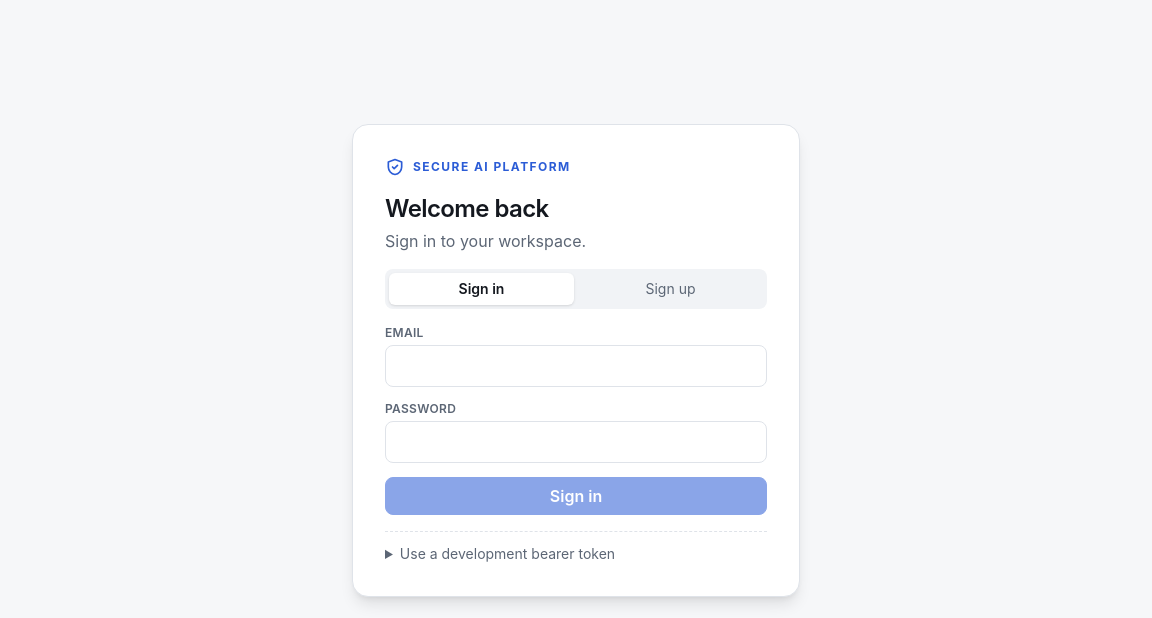
Test: Accounts › creates an account and uses the session cookie, not a stored token
The width and height of the screenshot is (1152, 618).
Click the tab "Sign up". click: (670, 288)
box: top-left (578, 272), bottom-right (763, 304)
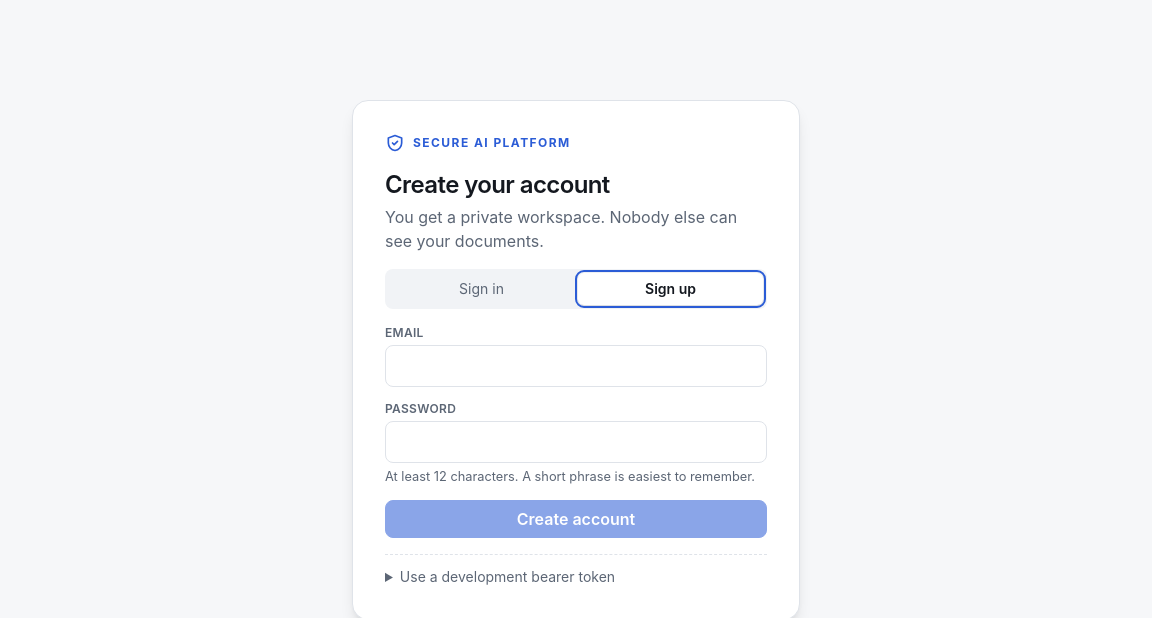
Type "ada@example.com" into the field labelled "Email". click: (576, 366)
box: top-left (385, 345), bottom-right (767, 387)
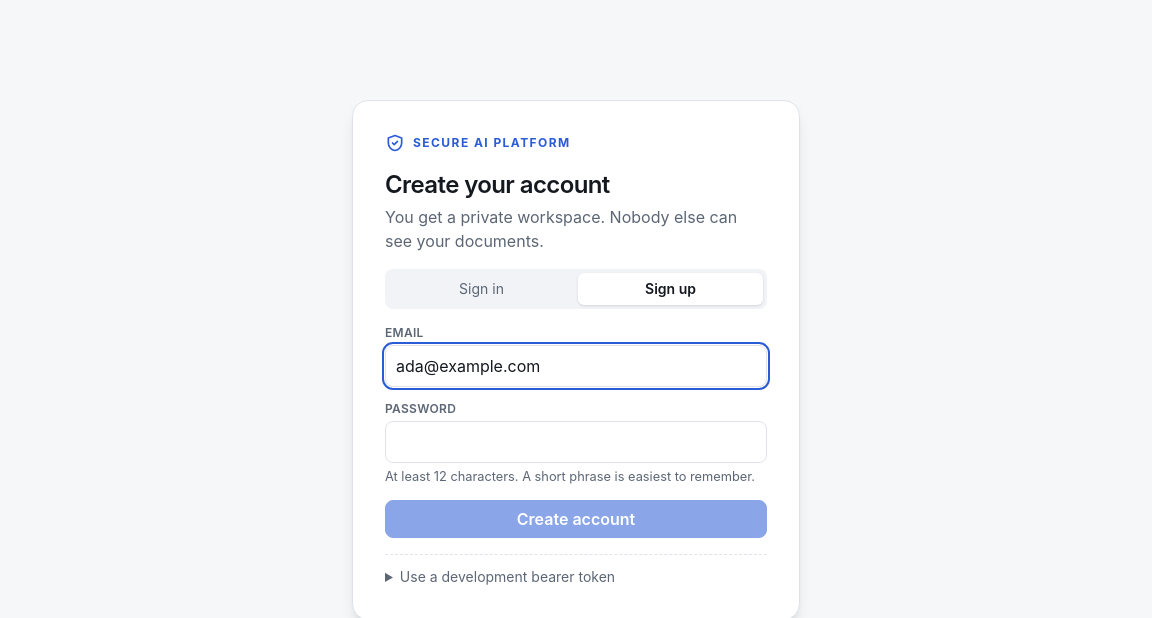
Type "correct horse battery" into the password field labelled "Password". click: (576, 442)
box: top-left (385, 421), bottom-right (767, 463)
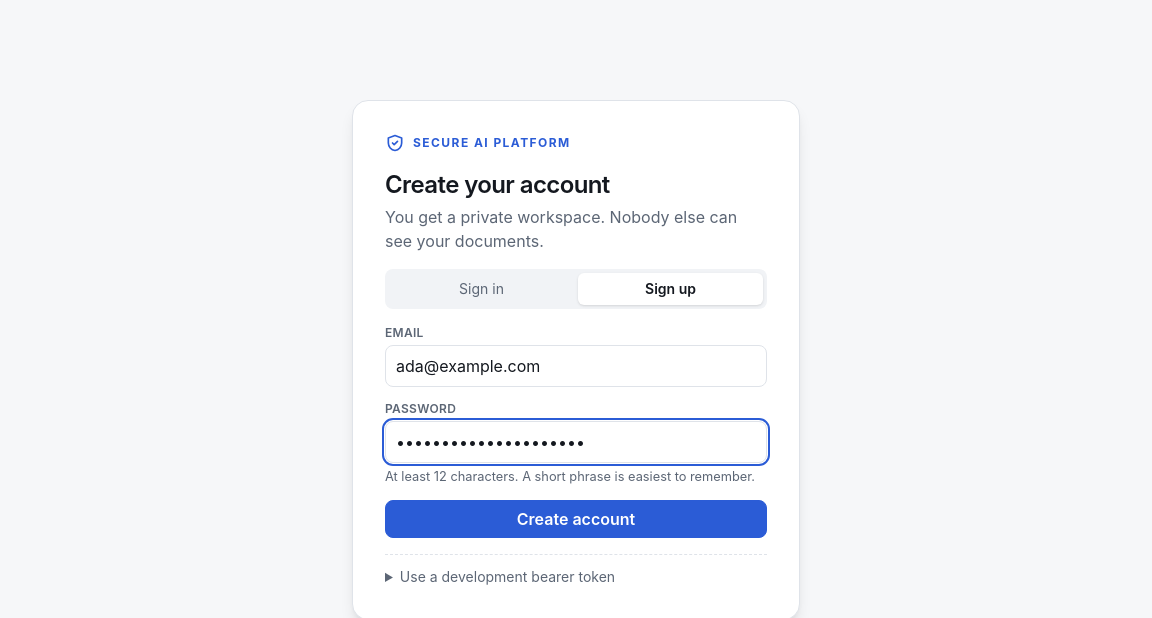
Click the button "Create account". click: (576, 519)
box: top-left (385, 500), bottom-right (767, 538)
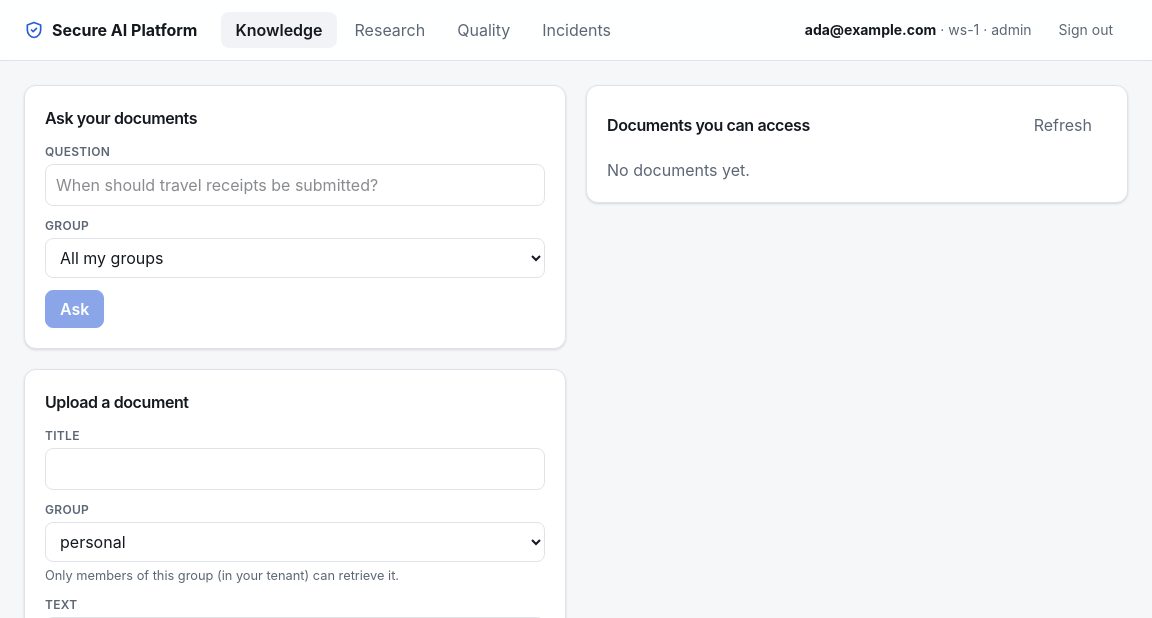
Now the text "ada@example.com" is shown, box top-left (805, 21), bottom-right (936, 38)
